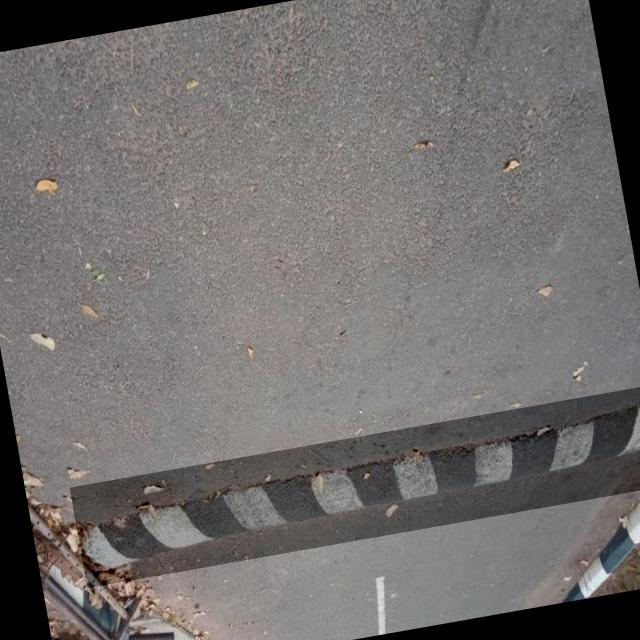bump: (68, 385, 640, 588)
